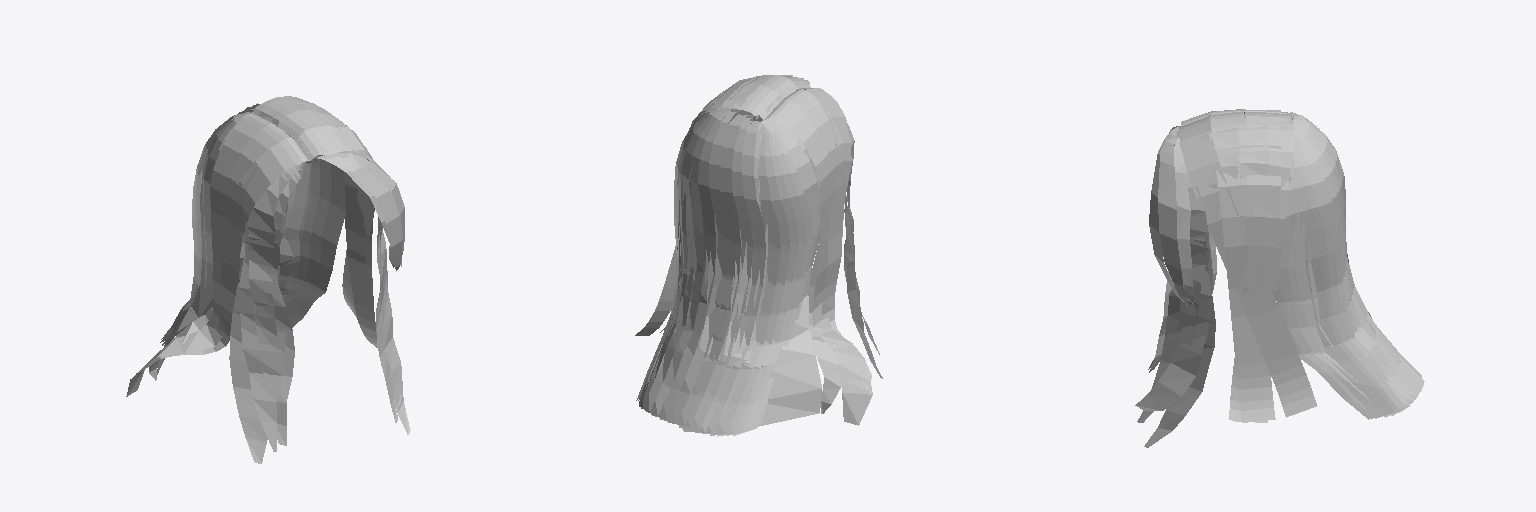
Rendered from hair.obj.
3 views of the same model, side by side, from view 1: azimuth 30°, elevation 25°; view 2: azimuth 150°, elevation 25°; view 3: azimuth 270°, elevation 25° (orthographic).
Parts seen in each view (by area): view 1: polySurface156 polySurface428, polySurface458 polySurface156, polySurface156 polySurface426, polySurface156 polySurface456, polySurface156 polySurface427, polySurface156 polySurface429, polySurface156 polySurface446, polySurface156 polySurface430, polySurface156 polySurface445, polySurface156 polySurface435, polySurface156 polySurface439, polySurface156 polySurface447 (+7 smaller); view 2: polySurface458 polySurface156, polySurface156 polySurface445, polySurface156 polySurface448, polySurface156 polySurface426, polySurface156 polySurface422, polySurface156 polySurface454, polySurface156 polySurface450, polySurface156 polySurface449, polySurface156 polySurface452, polySurface156 polySurface455, polySurface156 polySurface429, polySurface156 polySurface453 (+12 smaller); view 3: polySurface156 polySurface430, polySurface156 polySurface431, polySurface156 polySurface446, polySurface156 polySurface436, polySurface156 polySurface434, polySurface156 polySurface447, polySurface156 polySurface442, polySurface156 polySurface416, polySurface156 polySurface433, polySurface156 polySurface440, polySurface156 polySurface435, polySurface156 polySurface437 (+10 smaller).
Boxes of the visible parts, box(x1,y1,x2,y2) form: polySurface156 polySurface428: box(229, 161, 306, 463); polySurface458 polySurface156: box(126, 114, 270, 396); polySurface156 polySurface426: box(136, 124, 291, 373); polySurface156 polySurface456: box(240, 163, 307, 451); polySurface156 polySurface427: box(248, 161, 310, 445); polySurface156 polySurface429: box(149, 138, 308, 380); polySurface156 polySurface446: box(290, 164, 345, 327); polySurface156 polySurface430: box(294, 126, 374, 317); polySurface156 polySurface445: box(157, 112, 247, 374); polySurface156 polySurface435: box(259, 99, 368, 339); polySurface156 polySurface439: box(314, 155, 402, 270); polySurface156 polySurface447: box(286, 155, 330, 320); polySurface458 polySurface156: box(769, 101, 872, 425); polySurface156 polySurface445: box(758, 119, 821, 426); polySurface156 polySurface448: box(651, 110, 730, 419); polySurface156 polySurface426: box(783, 89, 871, 389); polySurface156 polySurface422: box(710, 124, 790, 435); polySurface156 polySurface454: box(660, 111, 736, 423); polySurface156 polySurface450: box(702, 122, 780, 433); polySurface156 polySurface449: box(717, 123, 798, 436); polySurface156 polySurface452: box(679, 118, 752, 429); polySurface156 polySurface455: box(645, 109, 728, 415); polySurface156 polySurface429: box(801, 88, 851, 413); polySurface156 polySurface453: box(667, 114, 743, 425); polySurface156 polySurface430: box(1179, 116, 1316, 417); polySurface156 polySurface431: box(1209, 111, 1275, 422); polySurface156 polySurface446: box(1276, 160, 1394, 419); polySurface156 polySurface436: box(1144, 163, 1215, 447); polySurface156 polySurface434: box(1288, 142, 1405, 417); polySurface156 polySurface447: box(1278, 153, 1399, 418); polySurface156 polySurface442: box(1229, 112, 1289, 420); polySurface156 polySurface416: box(1135, 249, 1212, 410); polySurface156 polySurface433: box(1295, 139, 1409, 415); polySurface156 polySurface440: box(1158, 136, 1187, 305); polySurface156 polySurface435: box(1235, 112, 1280, 422); polySurface156 polySurface437: box(1174, 138, 1193, 302).
Bounding box in the file's own units: 27.93 × 35.2 × 30.36.